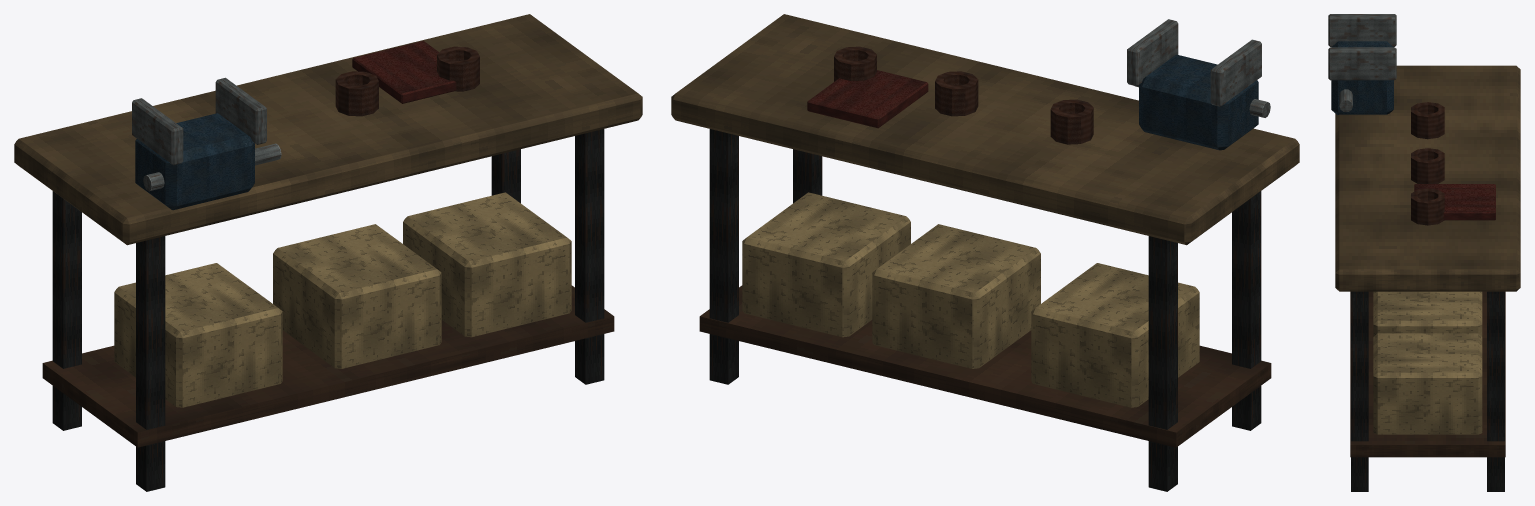
Rendered from level_workbench_worn.glb.
3 views of the same model, side by side, from view 1: azimuth 30°, elevation 25°; view 2: azimuth 150°, elevation 25°; view 3: azimuth 270°, elevation 25° (orthographic). The views are drawn at different scales.
Parts seen in each view (by area): view 1: level_workbench_worn; view 2: level_workbench_worn; view 3: level_workbench_worn.
Boxes of the visible parts, x1,y1,x2,y2 form: level_workbench_worn: (14,14,642,491); level_workbench_worn: (671,14,1299,491); level_workbench_worn: (1328,14,1520,491).
Size of the model in its own units: 1.8 by 1.22 by 0.705.
Materials: 8 (8 with a texture image).
